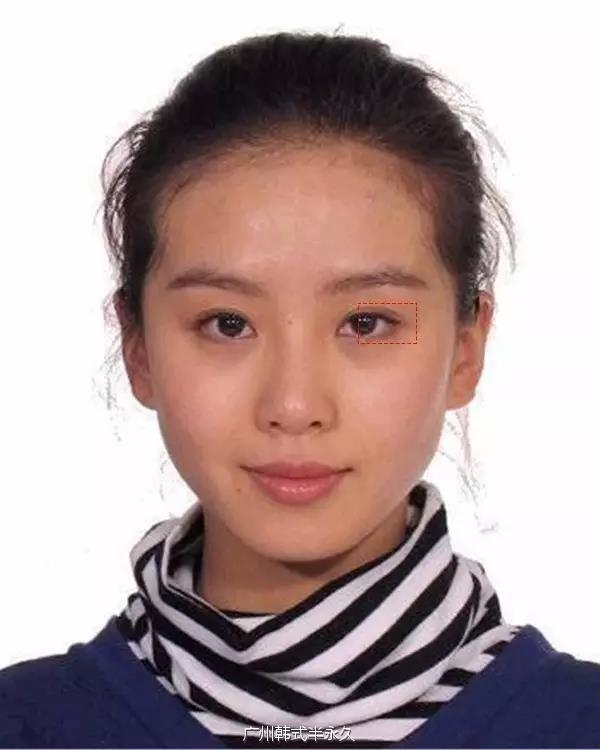unmask: (167, 177, 429, 538)
